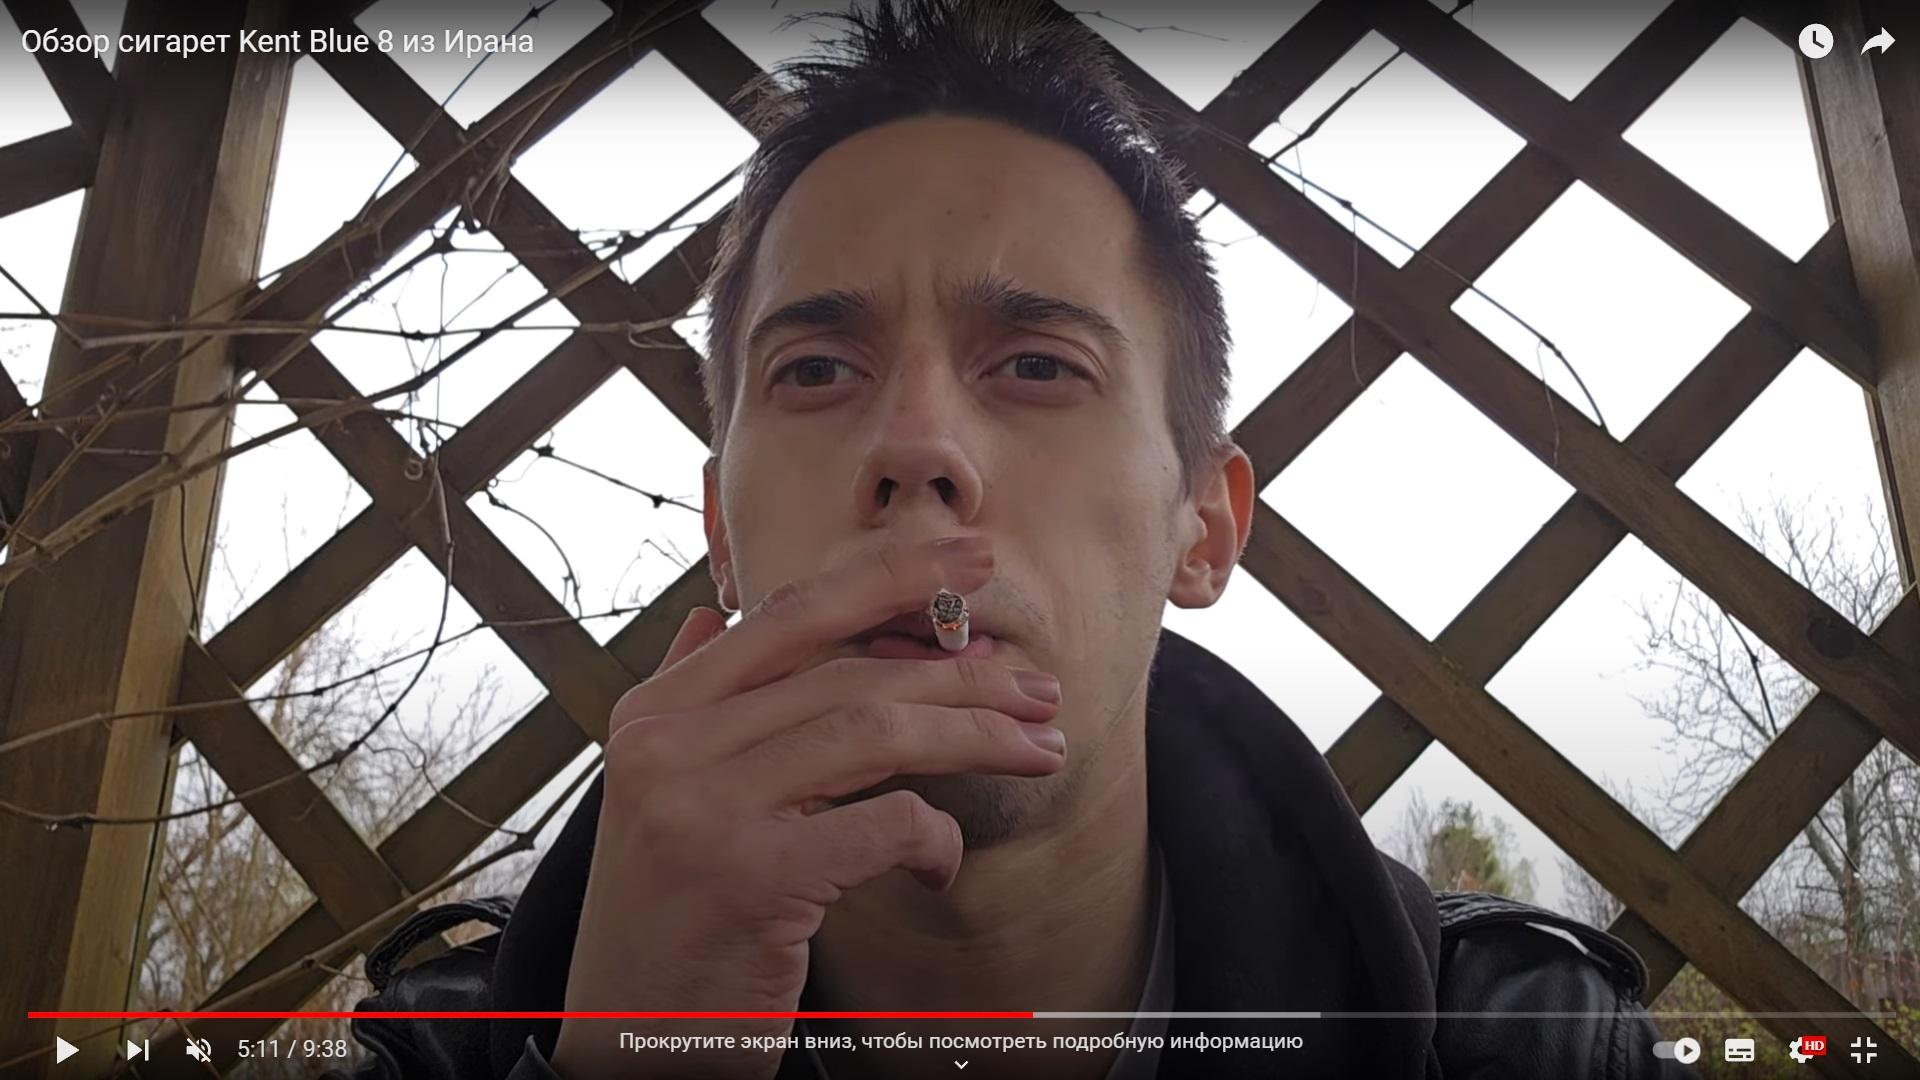cigarette: (930, 588, 969, 653)
